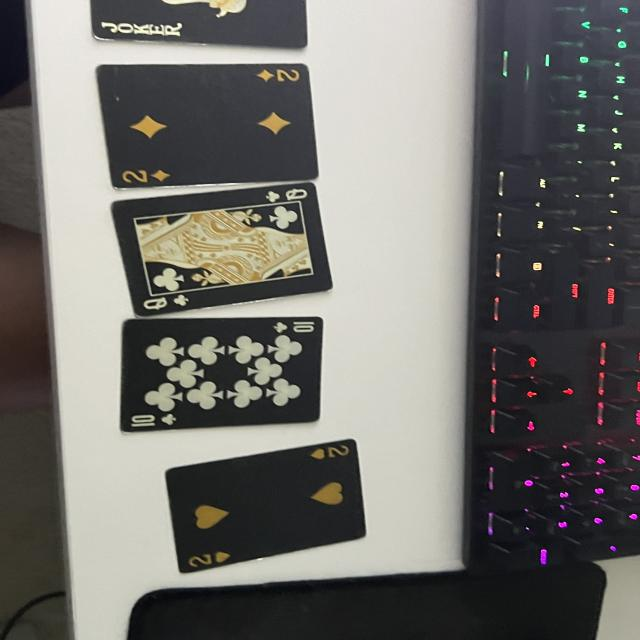10C: (124, 413, 186, 433), (272, 317, 323, 337)
2D: (254, 64, 310, 88), (120, 158, 173, 183)
2H: (302, 441, 360, 465), (190, 542, 233, 571)
BLACK JOKER: (91, 20, 192, 41)
QC: (259, 182, 312, 204), (138, 293, 192, 313)
